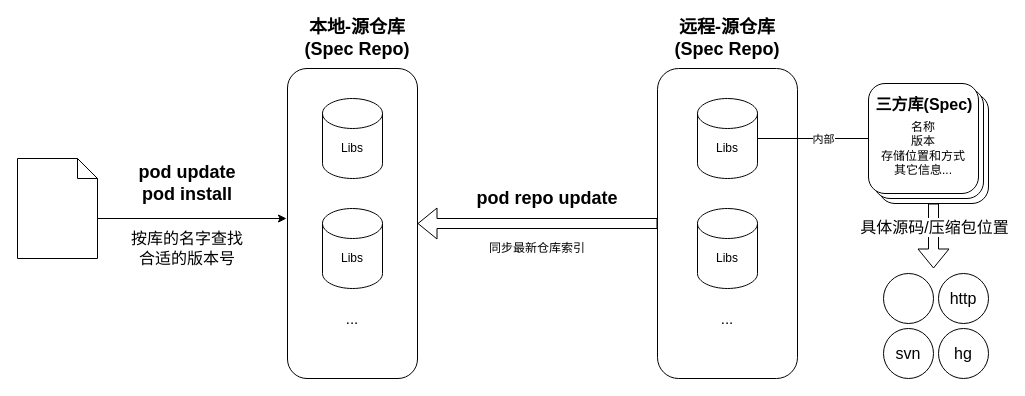
This 1025x396 diagram has some shape labels left out. Each missing label, with the centre of its shape:
git: the point at 908,298
Podfile: the point at 57,208
